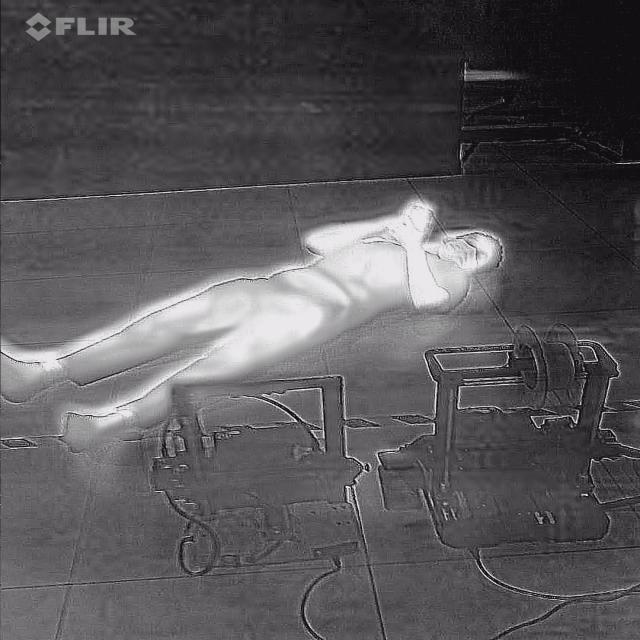Victim: (0, 185, 508, 462)
